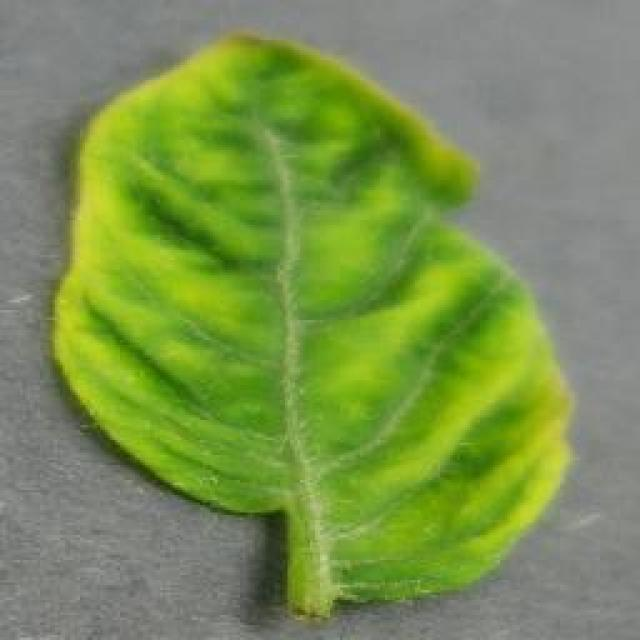Tomato yellow virus leaf: (54, 36, 568, 606)
